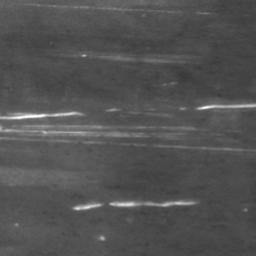Bright scratch: (0, 111, 86, 122), (110, 200, 197, 209), (197, 104, 256, 111), (73, 202, 102, 212)
